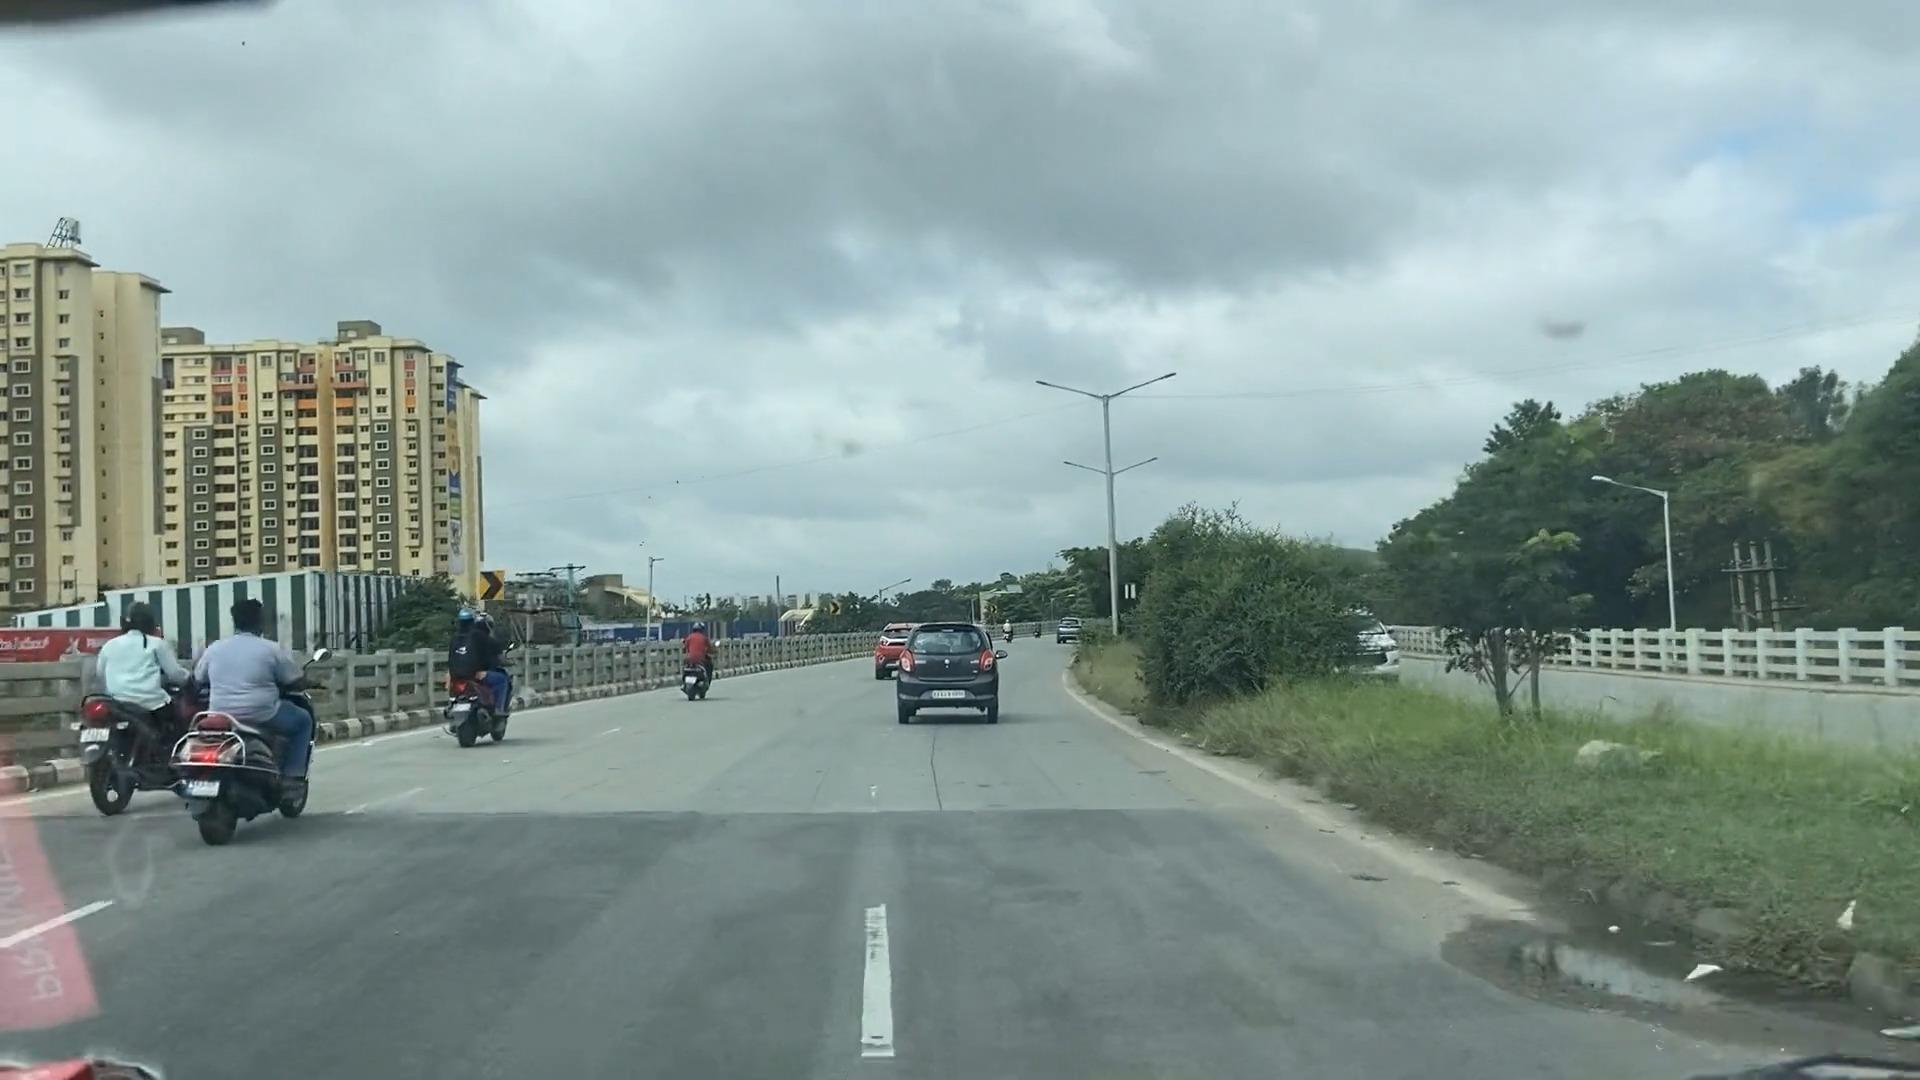LMV: (190, 612, 310, 800), (100, 615, 165, 779), (895, 622, 994, 715), (448, 607, 517, 724), (684, 622, 716, 700)
